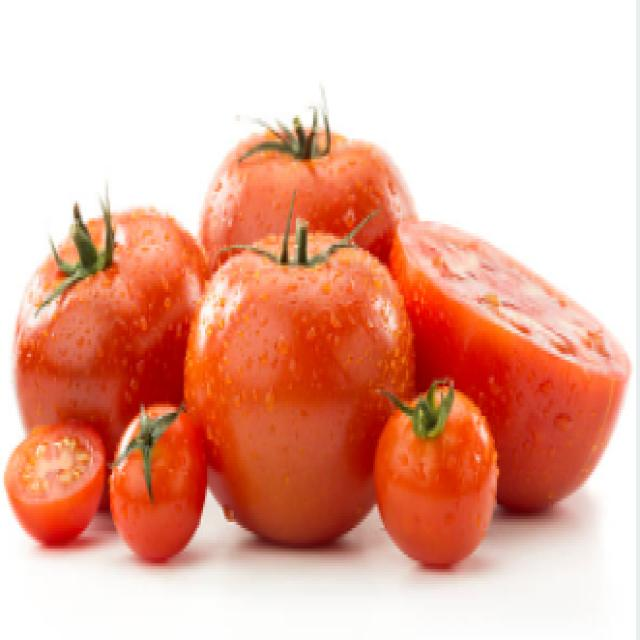Tomato: (200, 218, 417, 531), (11, 197, 206, 467)
